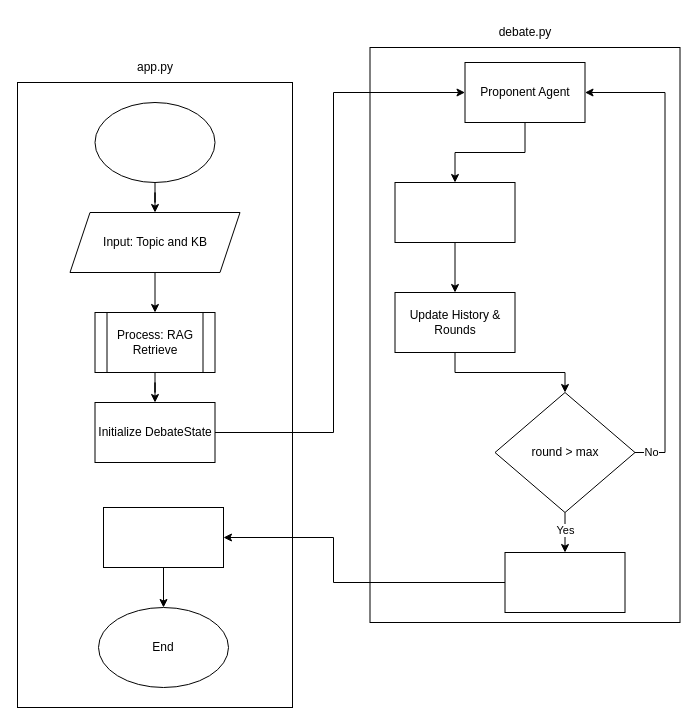
Image size: 698x725. Some labels were removed from this diagram. Here are the shapes that lost their labels. From the top down, the centre of each, then its label:
At (154,142): "Start".
At (454,212): "Opponent Agent".
At (163,537): "Display Summary".
At (564,582): "Judge Agent: Summary".
